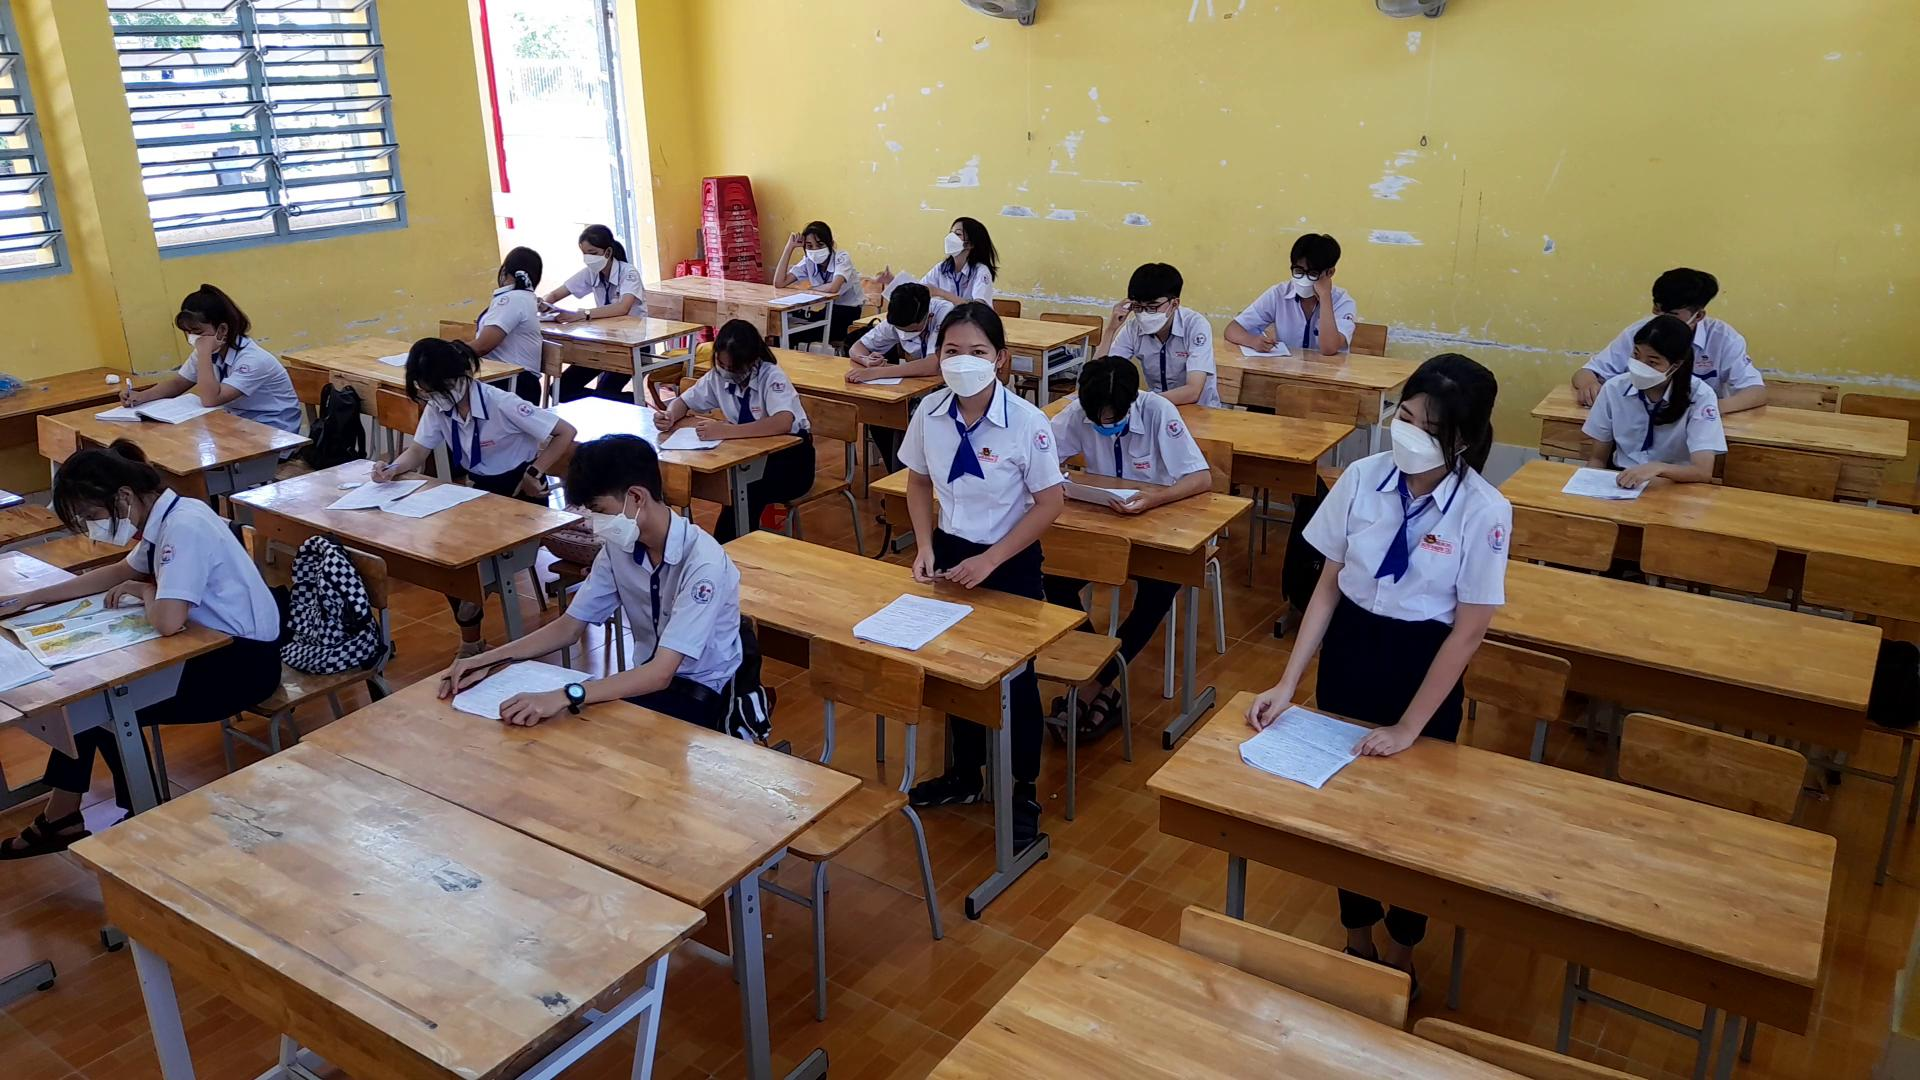Hand Under Table: (1581, 365, 1623, 485)
Look Around: (488, 225, 556, 297)
Normal: (525, 426, 754, 729), (365, 320, 583, 500), (1060, 340, 1211, 524), (640, 313, 816, 442), (539, 218, 653, 332), (928, 190, 1006, 305)
Stand Up: (1236, 339, 1514, 770), (890, 290, 1068, 597)
Wave: (179, 327, 249, 411), (1305, 269, 1356, 357), (1076, 278, 1127, 353), (756, 218, 806, 291)
